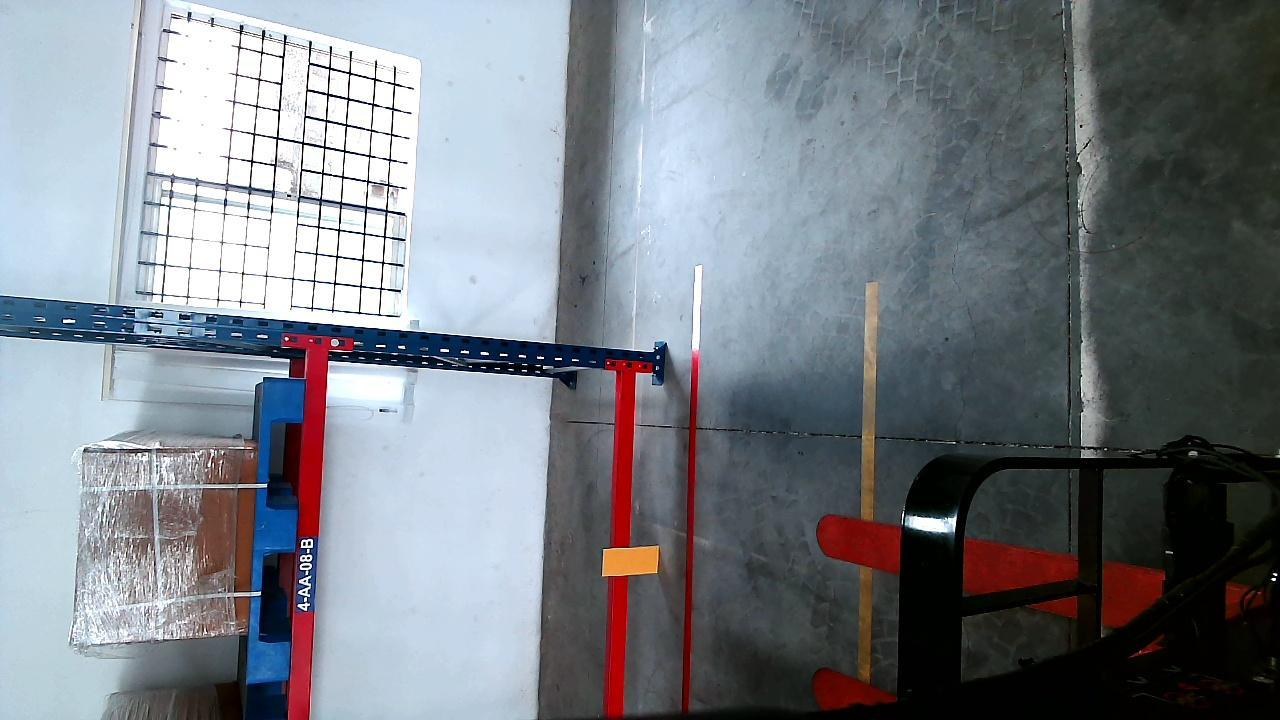red_line: (678, 268, 704, 710)
yellow_line: (857, 279, 878, 690)
